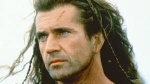male: (27, 1, 109, 84)
